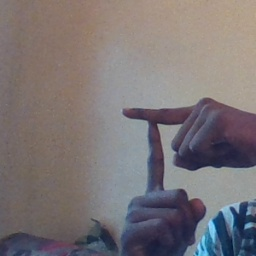T: (107, 90, 213, 217)
